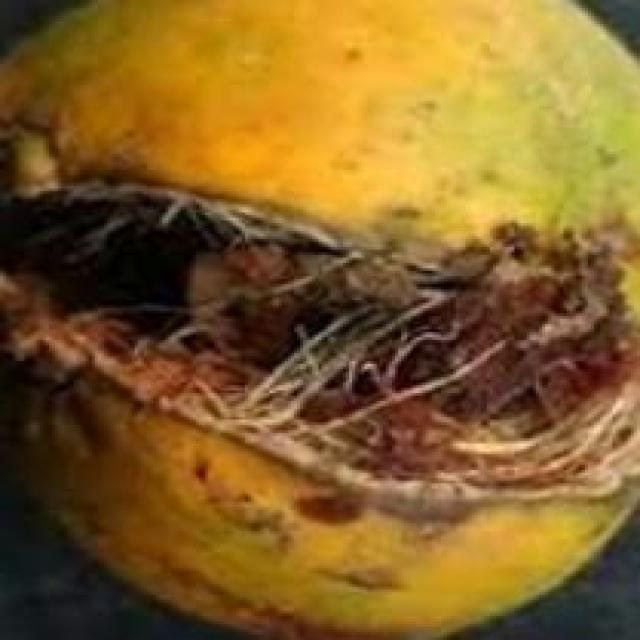damaged: (0, 0, 637, 637)
